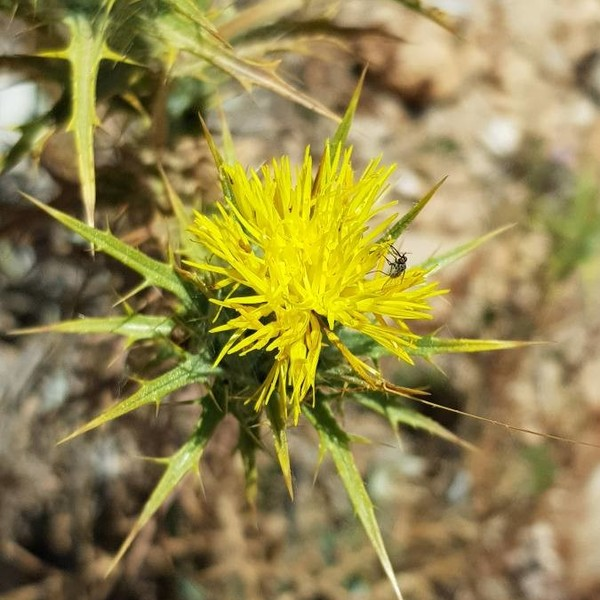obstacle: (50, 65, 516, 574)
